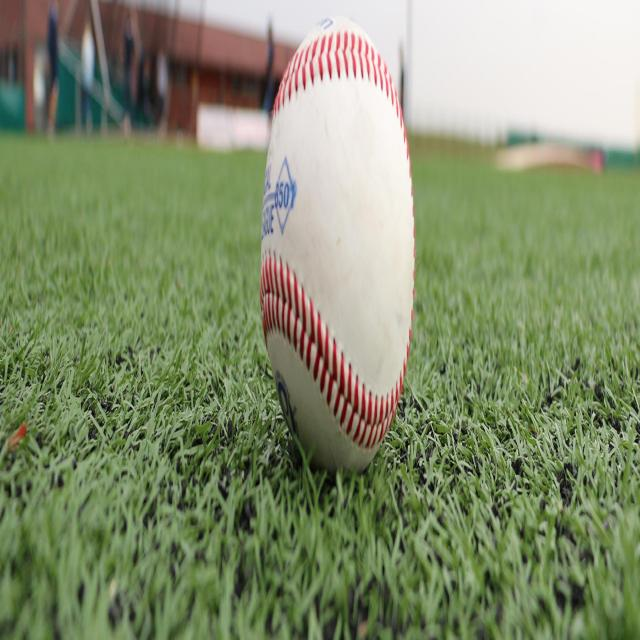baseball: (260, 11, 416, 474)
